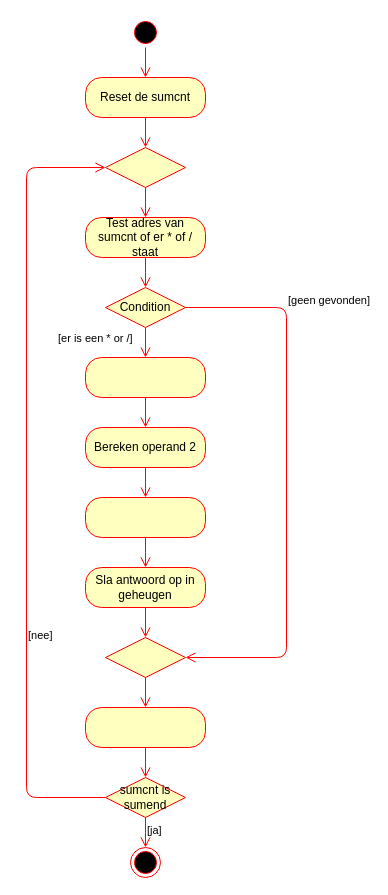
The diagram is 388 pixels wide and 895 high, and some of its shapes have lost their labels. The shapes that lost their labels are listed below. From the top down, each one's box as (x1, y1, x2, y2) in pixels, then its label:
(84, 356, 206, 398): Bereken operand 1
(84, 496, 206, 538): Bereken de som
(84, 706, 206, 748): Verhoog sumcnt met 1
